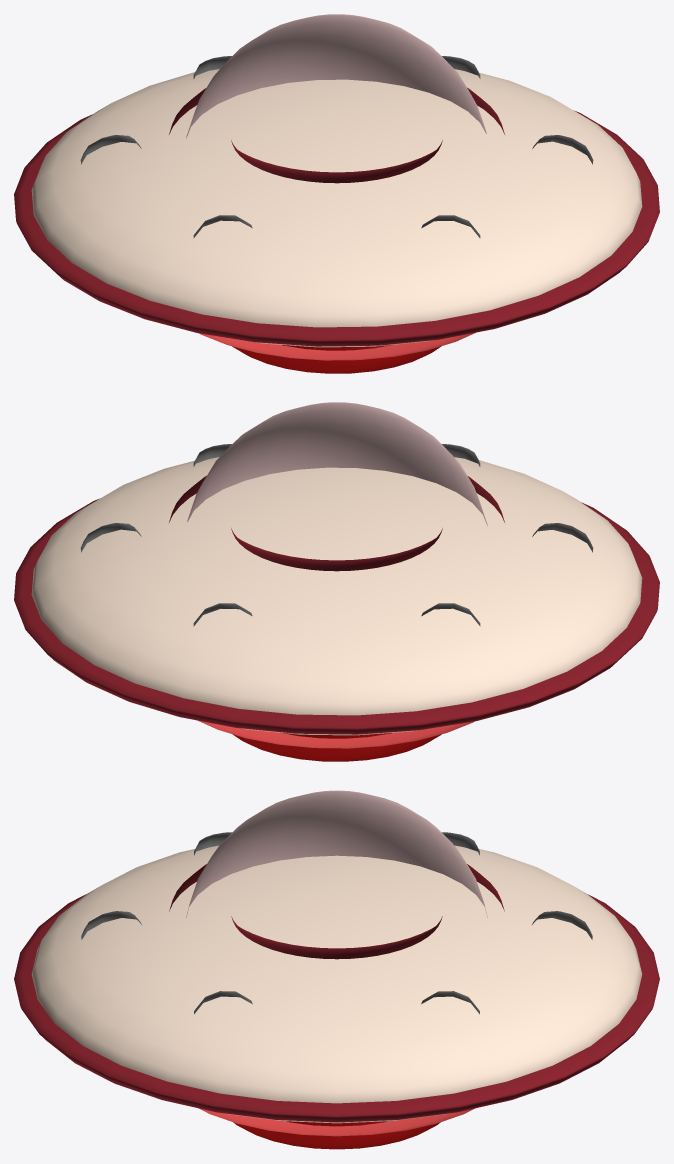
Rendered from ufo.glb.
3 views of the same model, one above another, from view 1: azimuth 30°, elevation 25°; view 2: azimuth 150°, elevation 25°; view 3: azimuth 270°, elevation 25° (orthographic).
Visible parts, largest first — view 1: ufo_0; view 2: ufo_0; view 3: ufo_0.
Boxes of the visible parts, x1=… form: ufo_0: x1=14, y1=14, x2=659, y2=373; ufo_0: x1=14, y1=402, x2=659, y2=761; ufo_0: x1=14, y1=790, x2=659, y2=1149.
Bounding box in the file's own units: 4.21 × 2.14 × 4.21.
